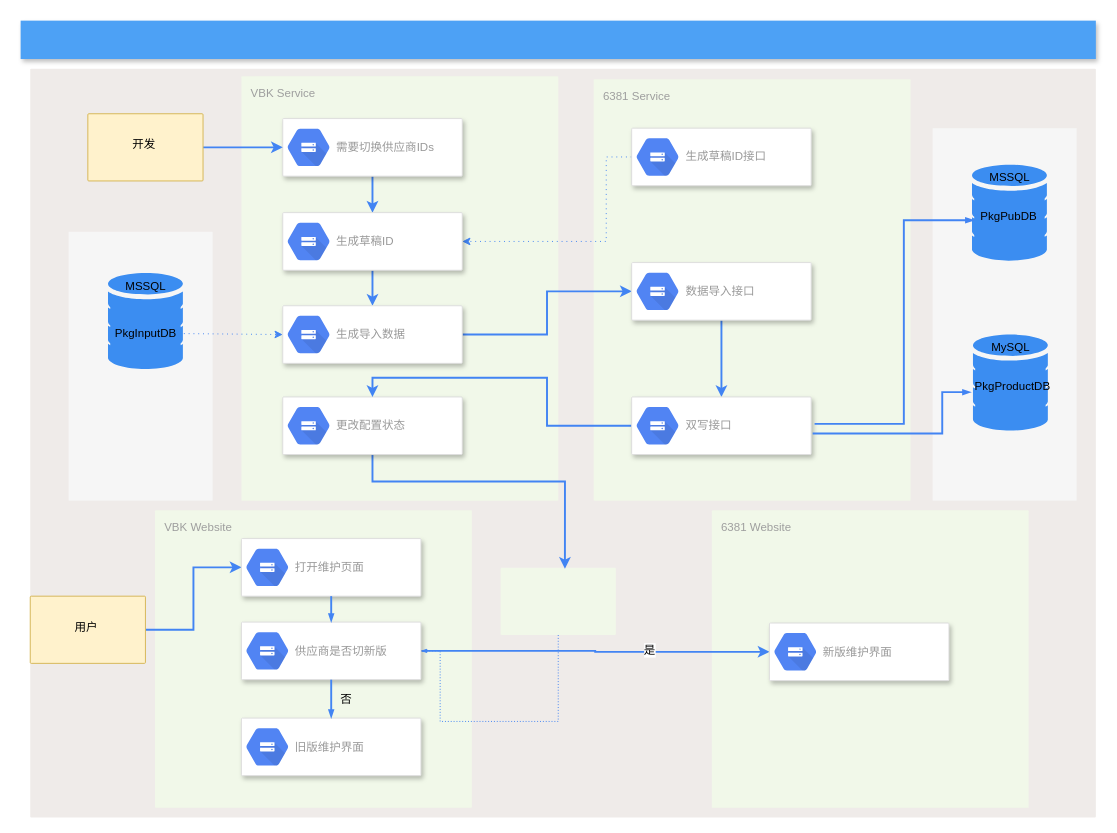
The diagram is 1117 pixels wide and 833 high, and some of its shapes have lost their labels. The centre of each missing label's shape, as x and y in pixels:
灰度切换方案（供应商ID维度）: point 558,40
配置系统: point 557,601
